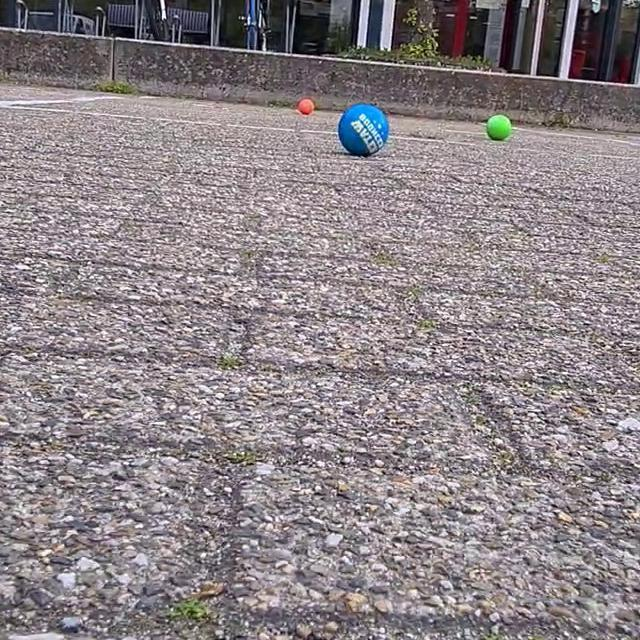ball: (485, 114, 513, 144)
